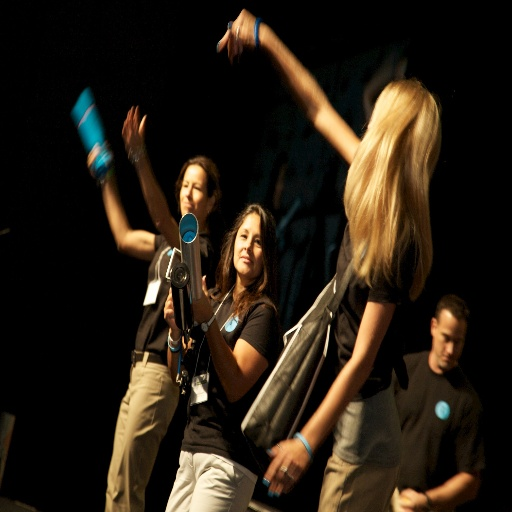hand: (217, 0, 272, 58), (260, 437, 308, 499), (121, 105, 147, 159), (162, 287, 190, 332), (86, 141, 114, 185), (192, 271, 214, 326), (395, 487, 428, 511)
